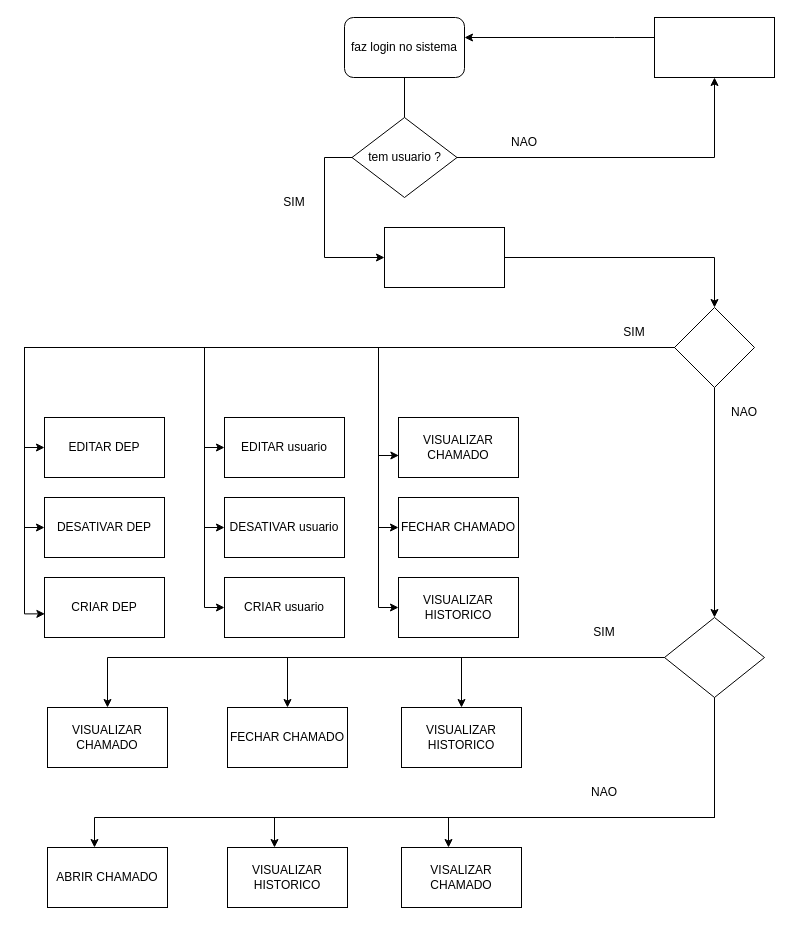
Some shapes in this 792 by 925 pixel diagram are drawn without their labels. Each missing label, with the centre of its shape:
e usuario atendente ?: point (714, 657)
faz verificacao de usuario: point (444, 257)
pede para admin criar-lo: point (714, 47)
´´e usuario admin?: point (714, 347)
